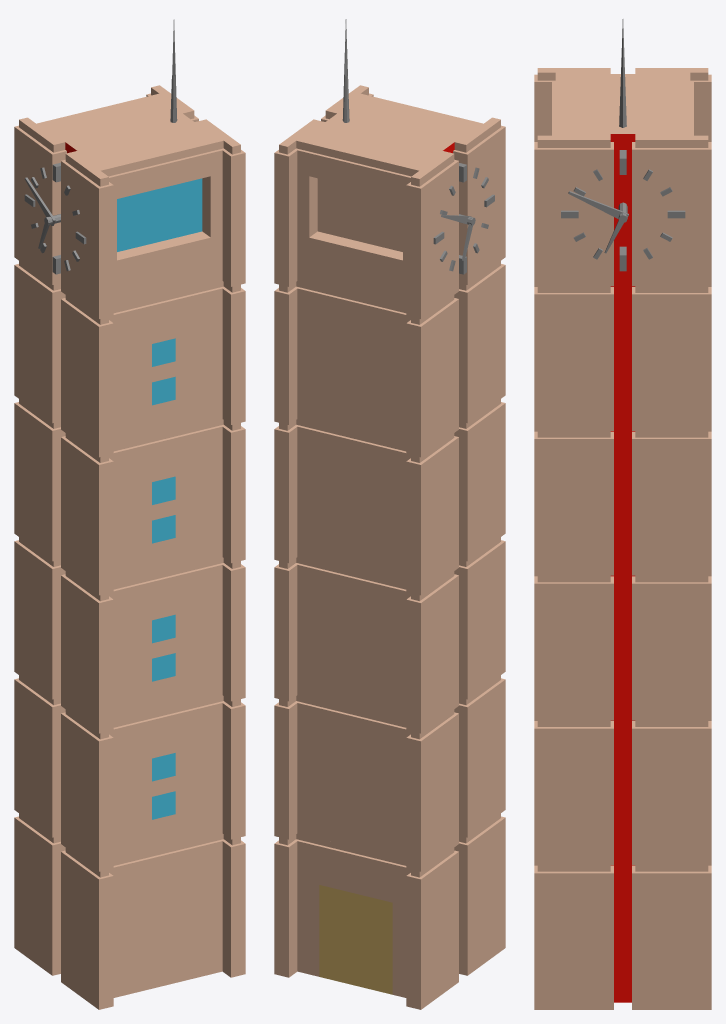
The model's file is kousenntokeitou.fbx.
3 views of the same model, side by side, from view 1: azimuth 30°, elevation 25°; view 2: azimuth 150°, elevation 25°; view 3: azimuth 270°, elevation 25° (orthographic). The views are drawn at different scales.
Parts seen in each view (by area): view 1: naka.001, saijoukai.001, tobira.001, tokeinopure-to.001; view 2: naka.001, saijoukai.001, tobira.001, tokeinopure-to.001; view 3: naka.001, saijoukai.001, tobira.001, tokeinopure-to.001, hiraisinn.001.
Part boxes in pixels (x1,y1,x2,y2): naka.001: (14, 261, 245, 871); saijoukai.001: (14, 85, 245, 318); tobira.001: (14, 813, 245, 1009); tokeinopure-to.001: (24, 162, 86, 274); naka.001: (274, 261, 505, 871); saijoukai.001: (274, 85, 505, 318); tobira.001: (274, 813, 505, 1009); tokeinopure-to.001: (433, 163, 494, 274); naka.001: (534, 278, 711, 865); saijoukai.001: (534, 68, 711, 286); tobira.001: (534, 857, 711, 1009); tokeinopure-to.001: (561, 150, 685, 271); hiraisinn.001: (619, 19, 626, 127).
Size of the model in its own units: 1140 by 6100 by 1000.
